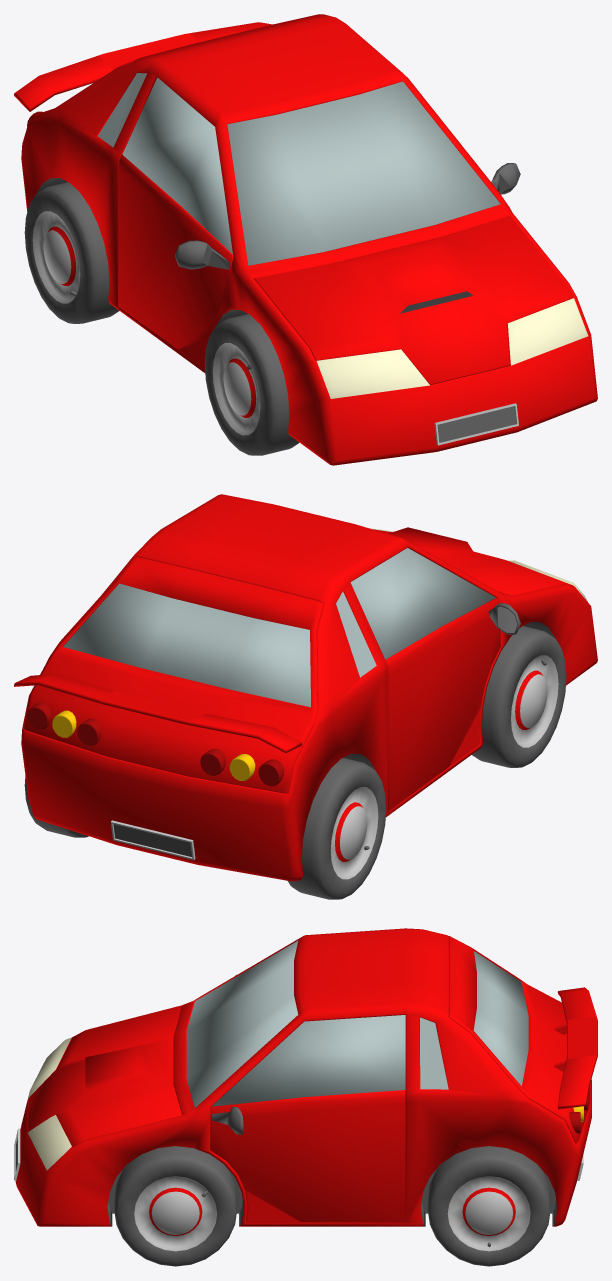
Rendered from Cartoon_SportCar_B01.dae.
The picture shows the model from 3 angles, top to bottom: view 1: azimuth 30°, elevation 25°; view 2: azimuth 150°, elevation 25°; view 3: azimuth 270°, elevation 25°; orthographic projection. The views are drawn at different scales.
Visible parts, largest first — view 1: carrosserie, elements, hood, door_front_R, Tire_Back_R, Tire_Front_R, glass_front_R, spoiler, door_front_L; view 2: carrosserie, Trunk, door_front_R, Tire_Back_R, Tire_Front_R, glass_front_R, spoiler, hood, elements; view 3: carrosserie, door_front_L, elements, hood, Trunk, Tire_Back_L, Tire_Front_L, glass_front_L, spoiler.
Boxes of the visible parts, x1,y1,x2,y2 form: carrosserie: (21, 14, 597, 465); elements: (98, 73, 588, 445); hood: (254, 216, 573, 385); door_front_R: (118, 154, 233, 368); Tire_Back_R: (24, 182, 119, 323); Tire_Front_R: (204, 314, 299, 455); glass_front_R: (122, 77, 232, 254); spoiler: (14, 22, 272, 111); door_front_L: (491, 163, 520, 194); carrosserie: (21, 494, 597, 881); Trunk: (22, 557, 323, 793); door_front_R: (385, 597, 520, 811); Tire_Back_R: (287, 758, 386, 899); Tire_Front_R: (472, 626, 566, 767); glass_front_R: (350, 548, 496, 659); spoiler: (14, 674, 301, 752); hood: (373, 527, 572, 595); elements: (110, 528, 587, 859); carrosserie: (15, 928, 591, 1226); door_front_L: (210, 1090, 405, 1222); elements: (14, 940, 583, 1180); hood: (28, 1006, 181, 1146); Trunk: (448, 936, 590, 1143); Tire_Back_L: (427, 1146, 550, 1266); Tire_Front_L: (114, 1146, 237, 1266); glass_front_L: (211, 1015, 405, 1106); spoiler: (554, 987, 597, 1109).
Bounding box in the file's own units: 190 × 322 × 146.
